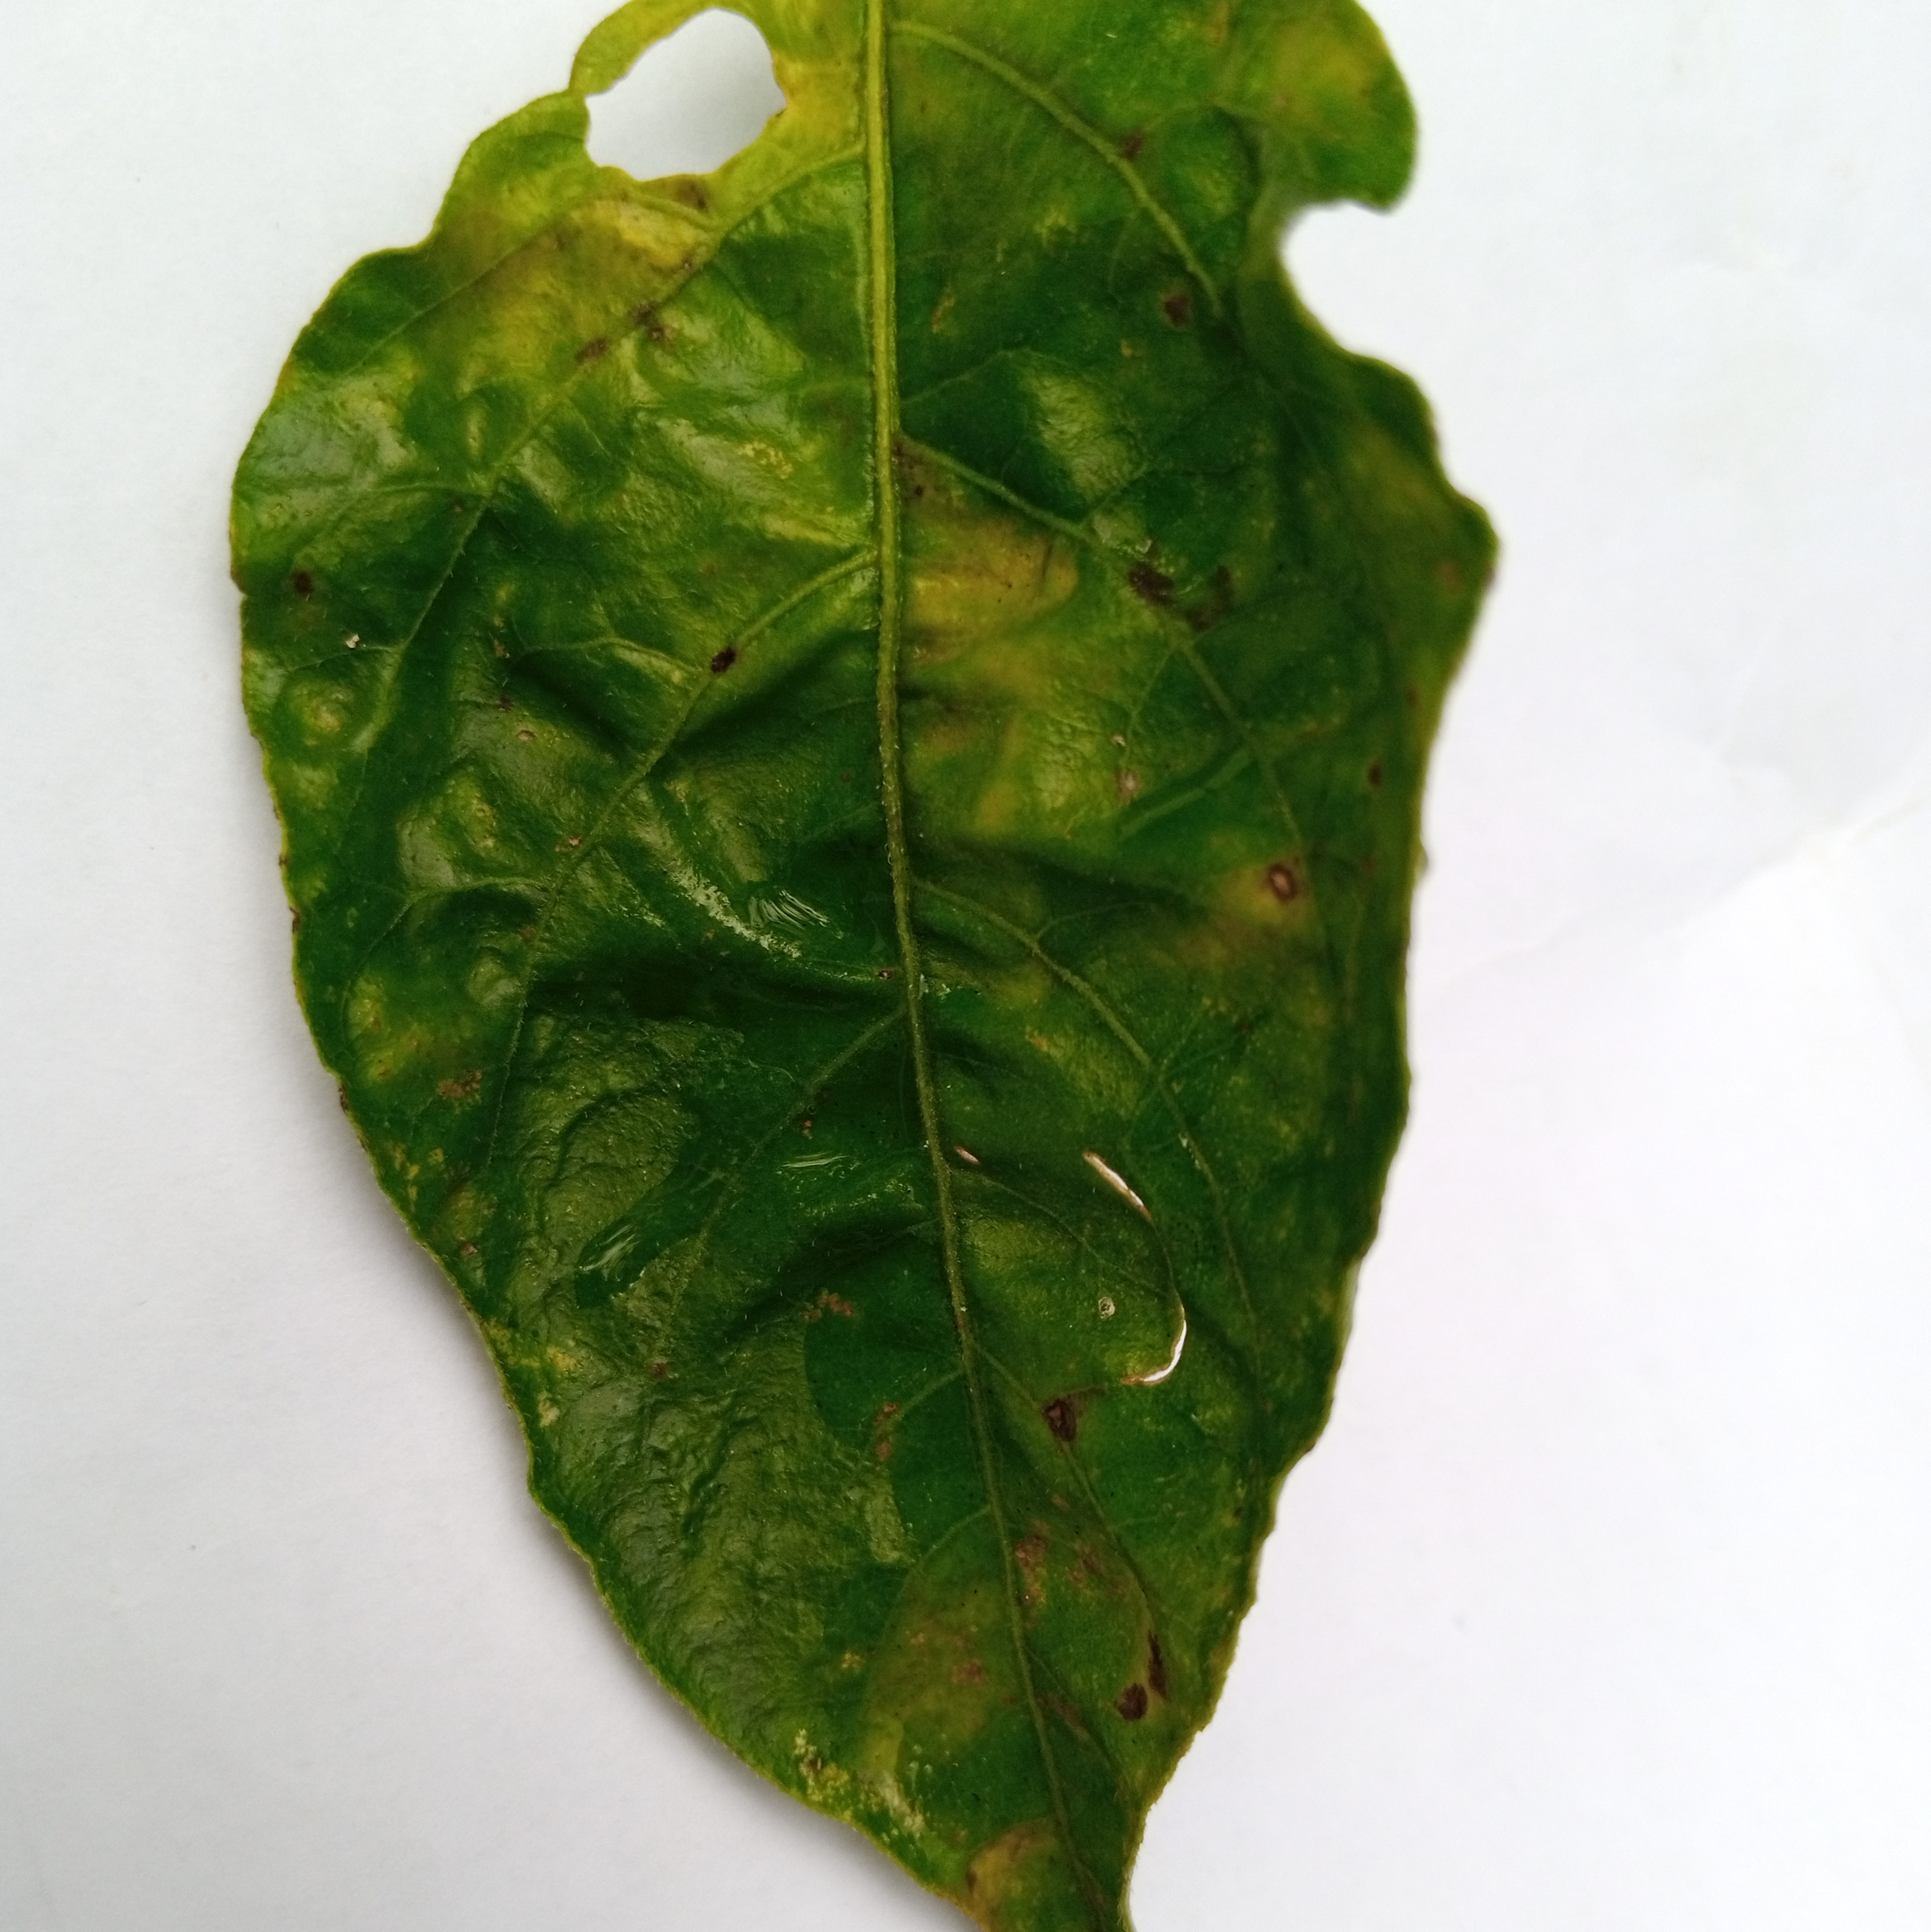Leaf: (156, 12, 1547, 1932)
